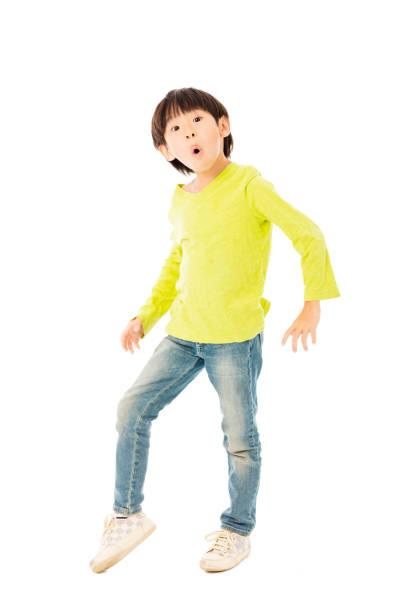Human: (104, 69, 299, 575)
